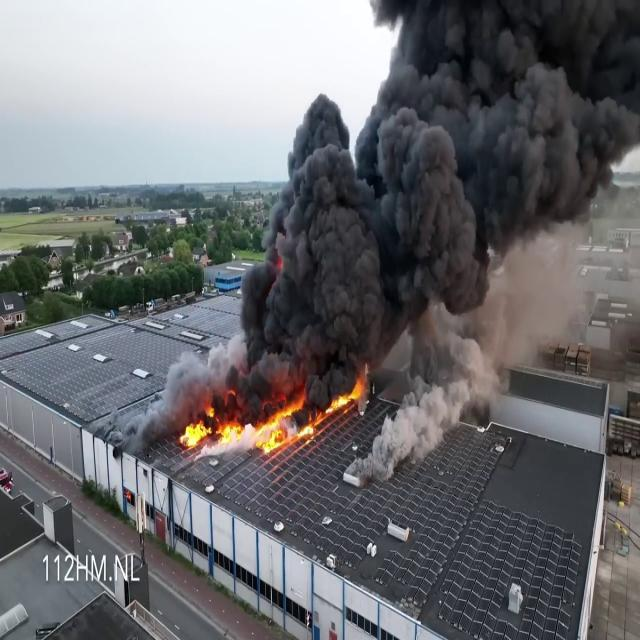Fire: (179, 392, 343, 454)
Smoke: (209, 0, 640, 456), (353, 278, 542, 480), (140, 334, 215, 438)
